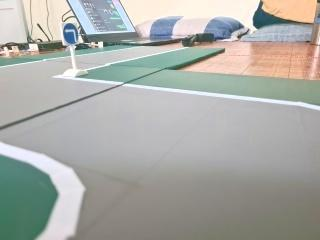left: (60, 20, 81, 47)
